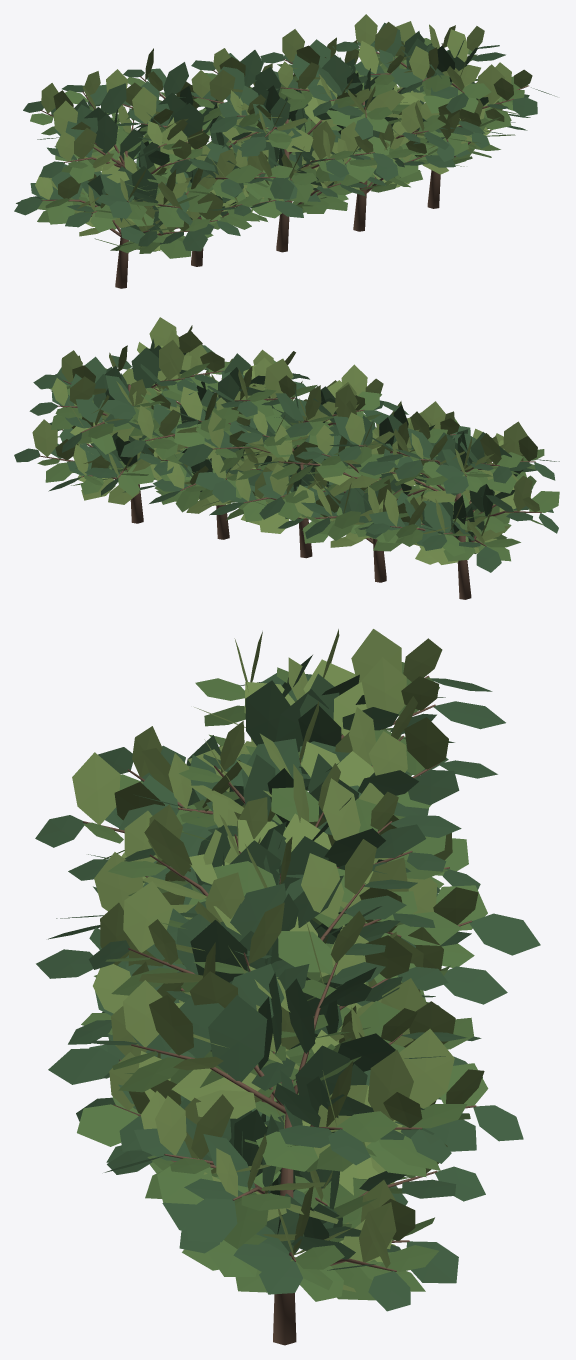
Rendered from rpg-mansion-garden-low-shrub-border-01.glb.
3 renders of one model, top to bottom at view 1: azimuth 30°, elevation 25°; view 2: azimuth 150°, elevation 25°; view 3: azimuth 270°, elevation 25°, orthographic. The views are drawn at different scales.
Visible parts, largest first — view 1: rpg-mansion-garden-low-shrub-border-01; view 2: rpg-mansion-garden-low-shrub-border-01; view 3: rpg-mansion-garden-low-shrub-border-01.
Boxes of the visible parts, left/top/right/bottom form: rpg-mansion-garden-low-shrub-border-01: left=14, top=14, right=556, bottom=288; rpg-mansion-garden-low-shrub-border-01: left=14, top=317, right=559, bottom=599; rpg-mansion-garden-low-shrub-border-01: left=35, top=629, right=540, bottom=1345.
Size of the model in its own units: 1.97 by 0.6992 by 0.8319.
